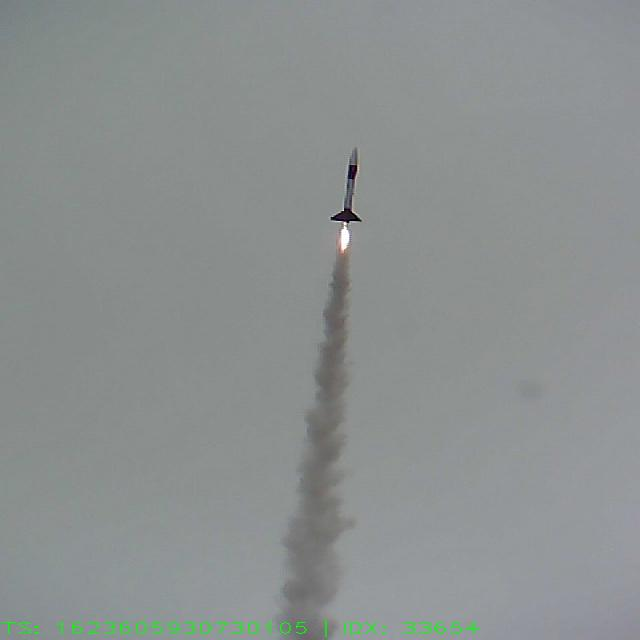Rocket: (329, 144, 363, 223)
